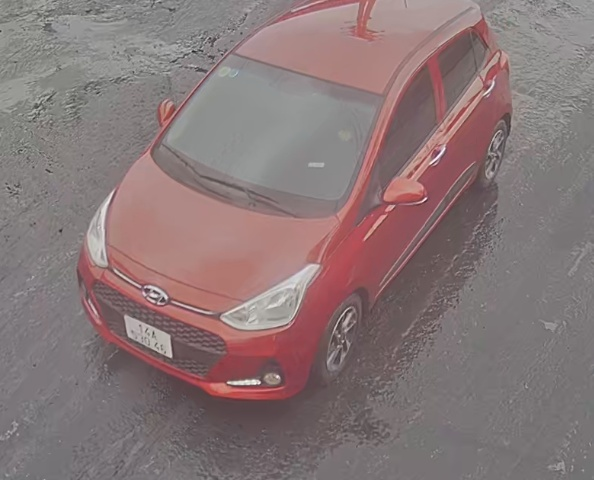vehicle plate: (119, 309, 175, 360)
